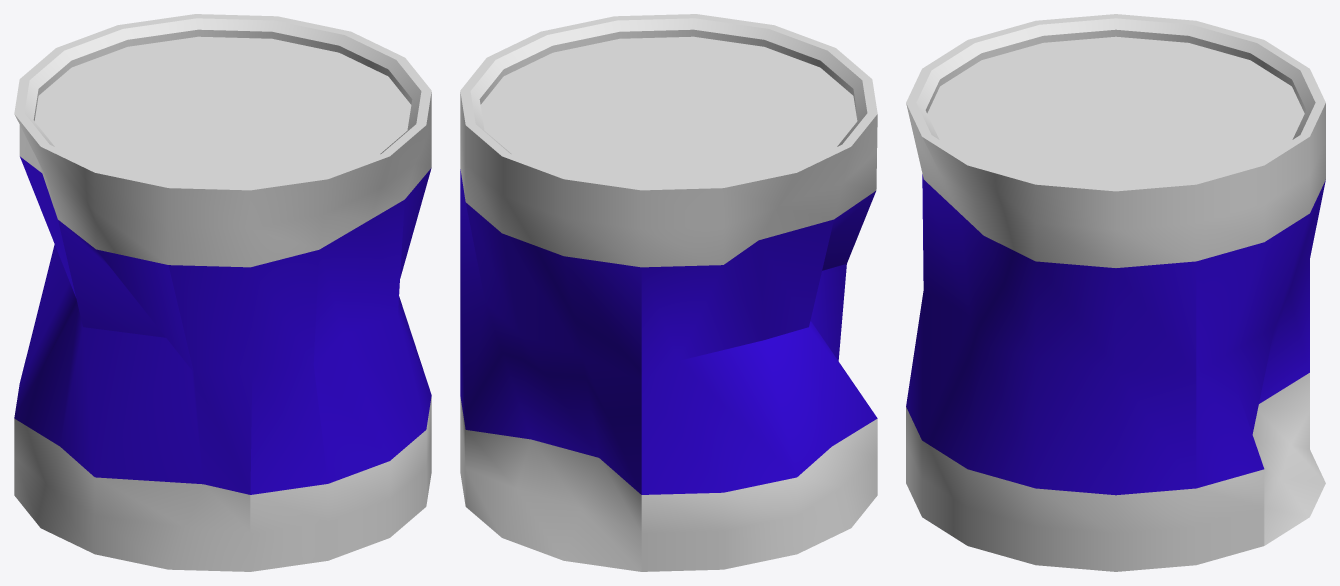
Rendered from paintcan.fbx.
The picture shows the model from 3 angles, left to right: view 1: azimuth 30°, elevation 25°; view 2: azimuth 150°, elevation 25°; view 3: azimuth 270°, elevation 25°; orthographic projection.
Visible parts, largest first — view 1: Cylinder; view 2: Cylinder; view 3: Cylinder.
Part boxes in pixels (box(x1,y1,x2,y2)): Cylinder: box(14, 14, 431, 571); Cylinder: box(460, 14, 877, 571); Cylinder: box(906, 14, 1325, 571).
Size of the model in its own units: 0.9658 by 0.9658 by 0.9658.
